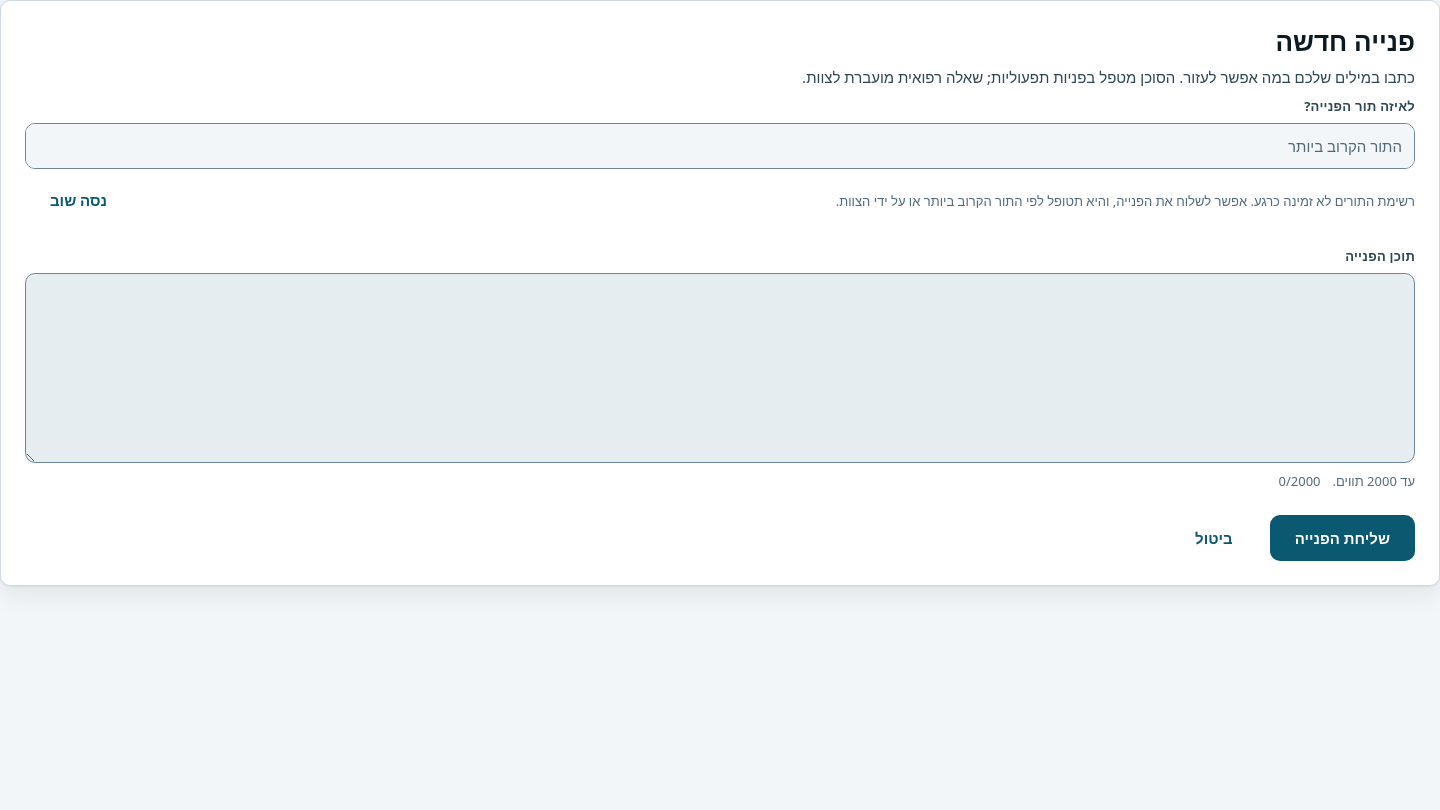
NewRequest: which appointment (sub-project 18, design D5) › loads the list again from "נסה שוב" after a failure, and then offers the appointments
expect the text "רשימת התורים לא זמינה כרגע. אפשר לשלוח את הפנייה, והיא תטופל לפי התור הקרוב ביותר או על ידי הצוות." is shown: met, box [836,192,1415,210]
Click the button "נסה שוב".
click(78, 200)  # box [25,177,132,223]
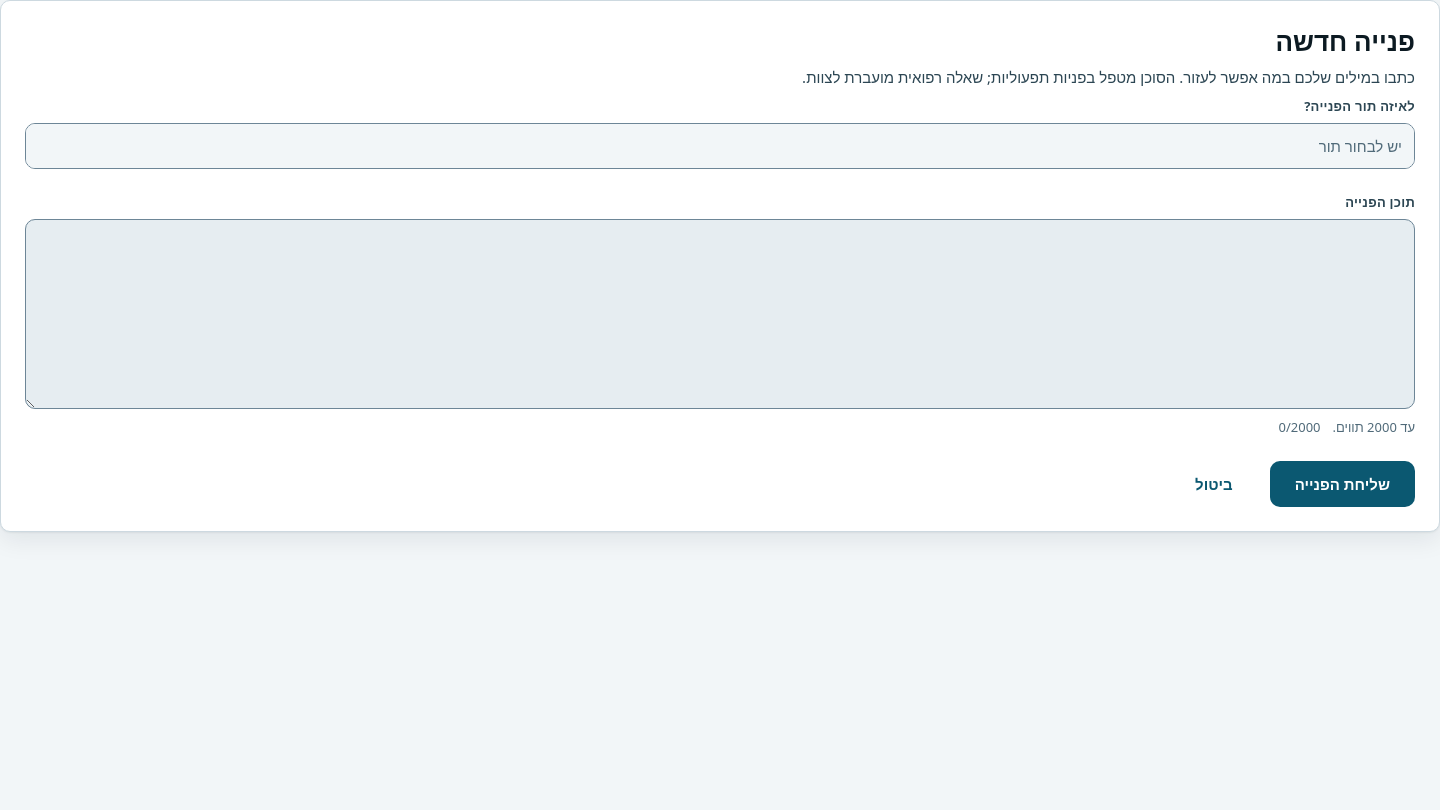
expect the dropdown labelled "לאיזה תור הפנייה?" shows "יש לבחור תור": met, box [26,124,1414,168]
expect the button "נסה שוב" is gone: met
